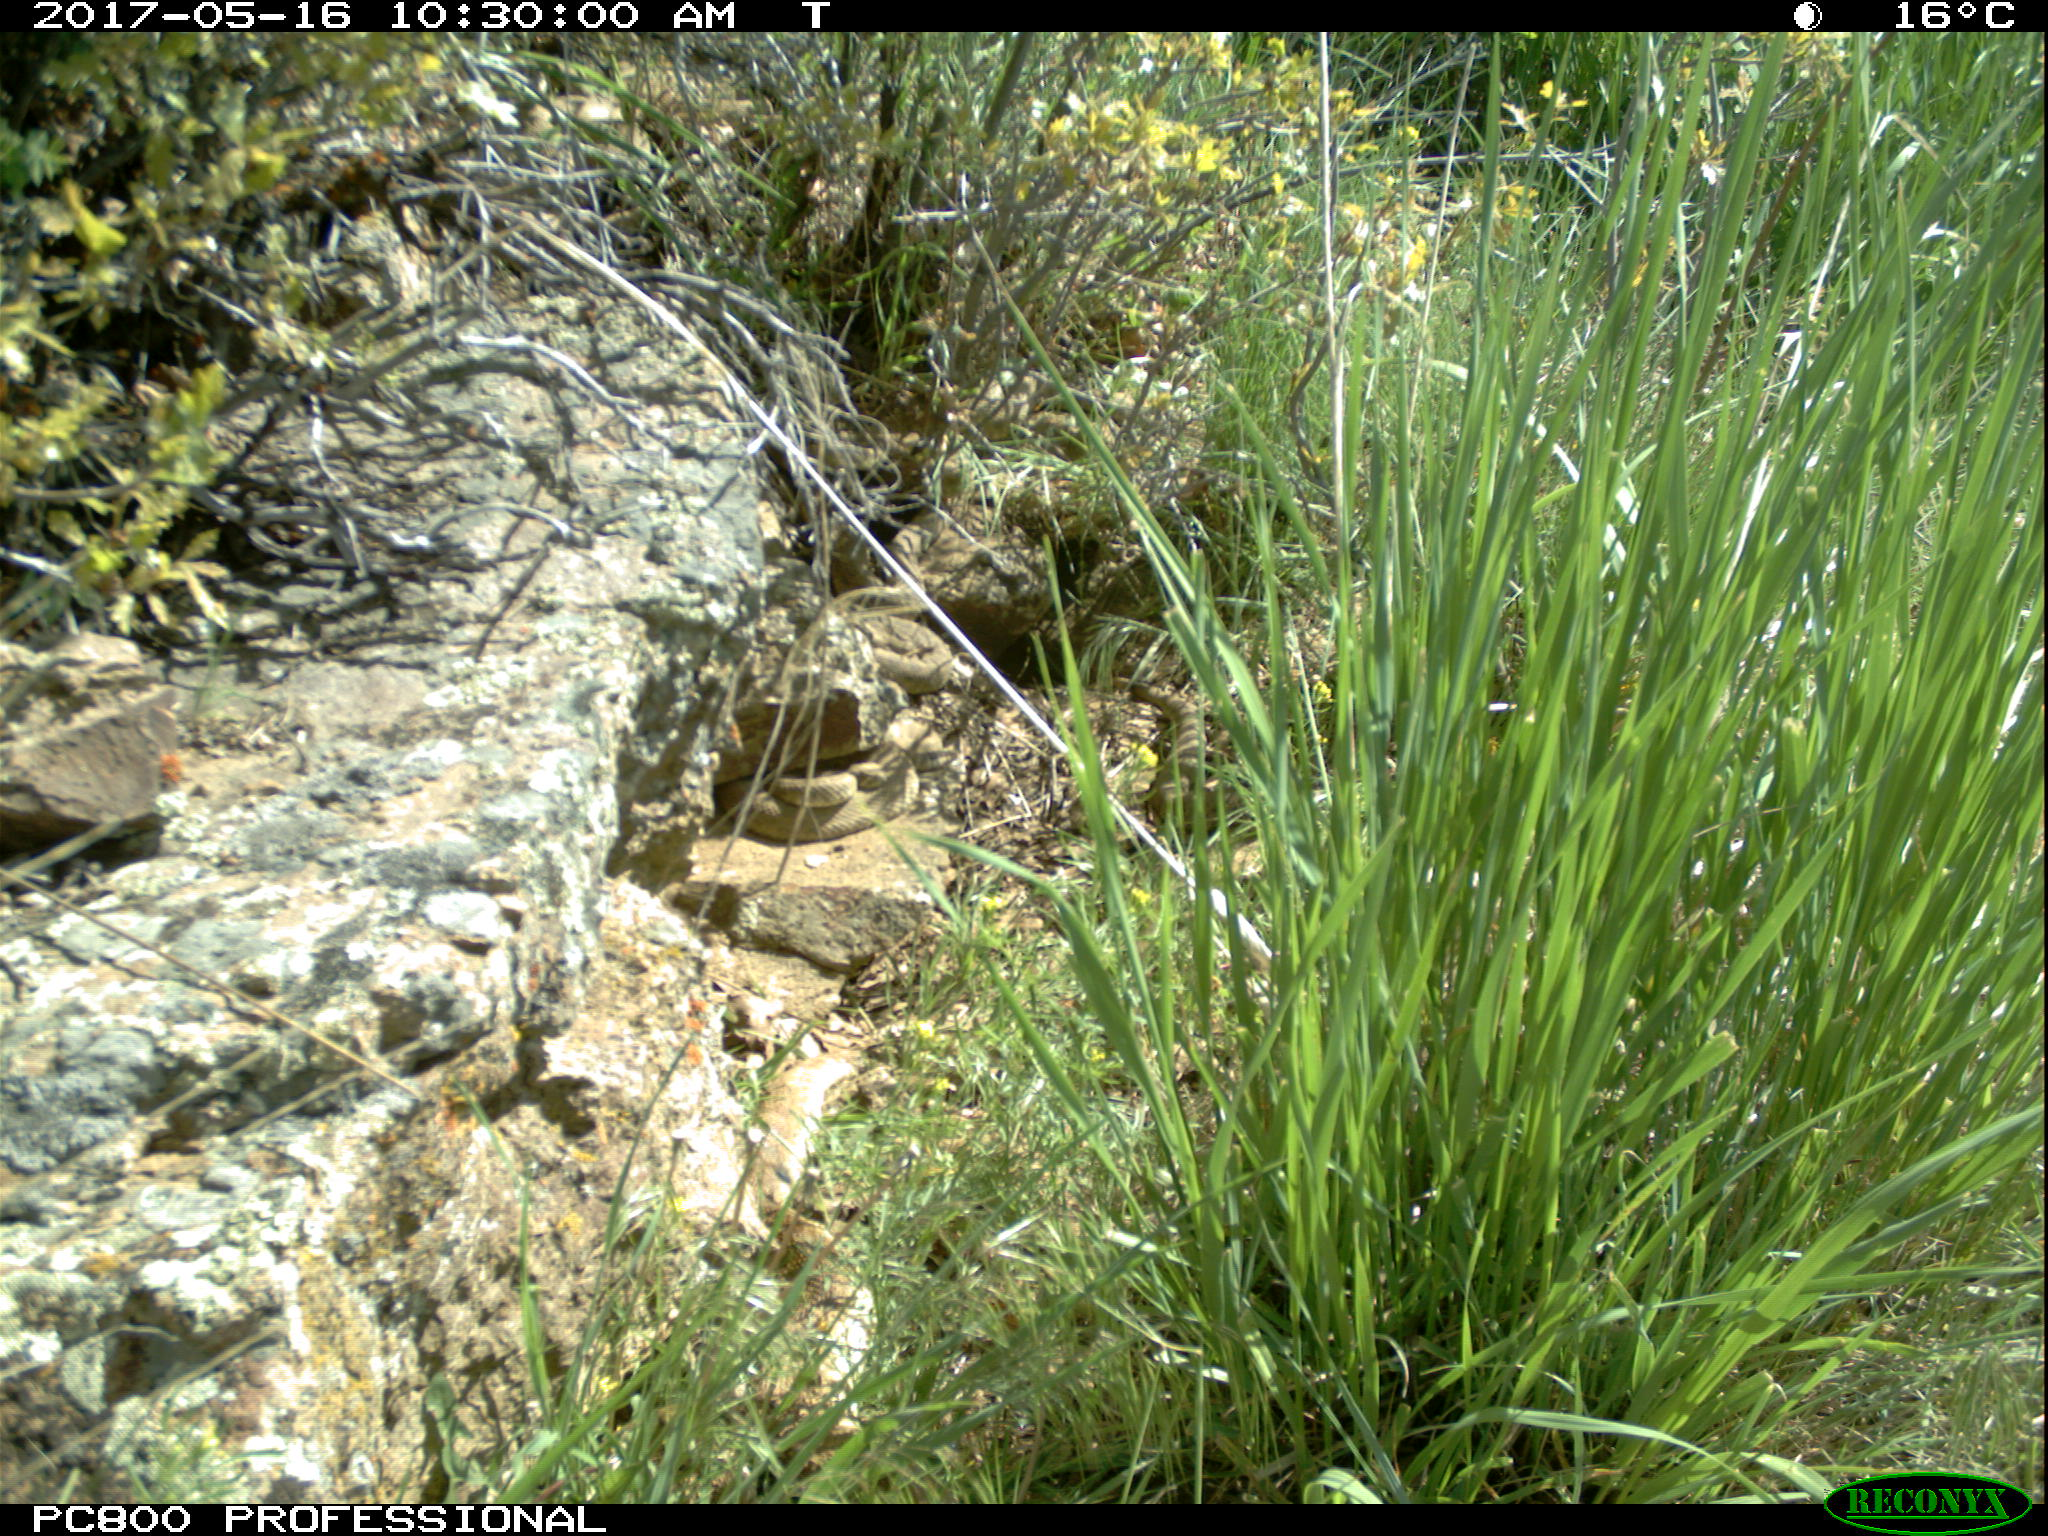snake: (743, 1055, 876, 1412), (721, 745, 921, 849), (1114, 678, 1206, 800), (860, 607, 959, 697), (885, 511, 947, 628)
